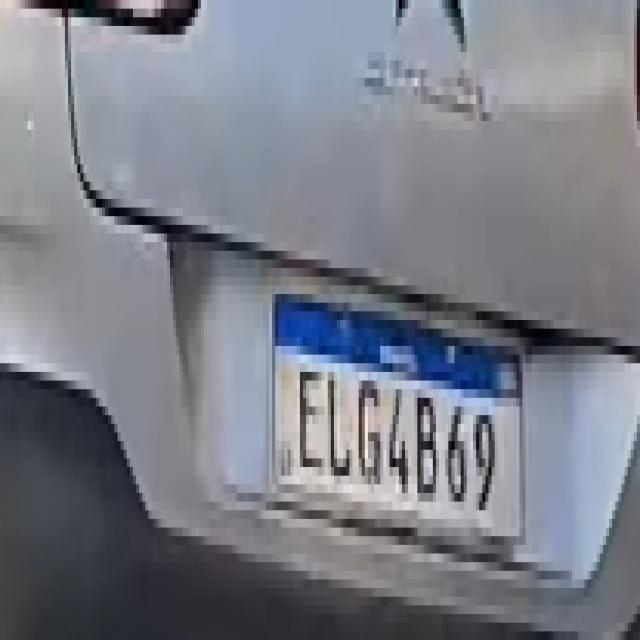Placa_mercosul_carro: (269, 278, 526, 543)
